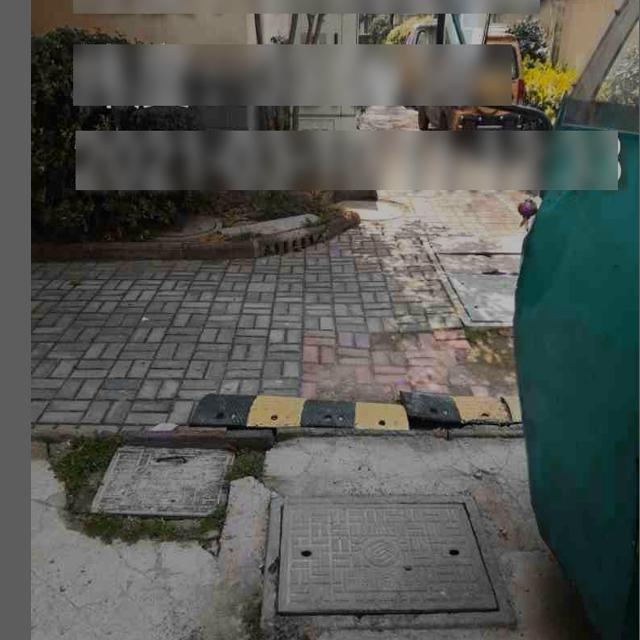good: (253, 497, 516, 628), (86, 442, 235, 518), (420, 227, 525, 328)
